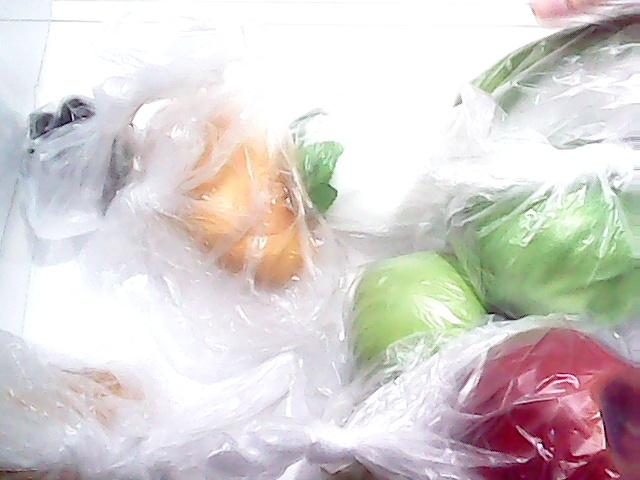apple: (438, 312, 640, 480), (345, 242, 493, 386)
cabbage: (440, 147, 640, 329)
grape: (22, 82, 142, 228)
lemon: (144, 97, 300, 291)
pepper: (454, 1, 640, 135)
potato: (2, 365, 144, 479)
radish: (279, 98, 483, 234)
